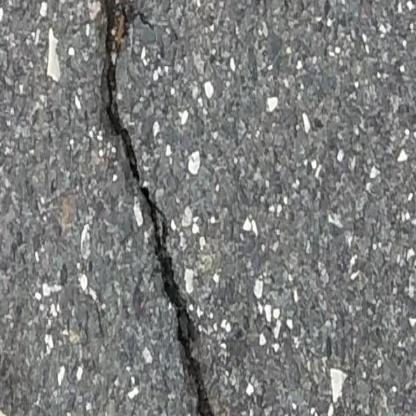Cracks: (89, 0, 226, 416)
